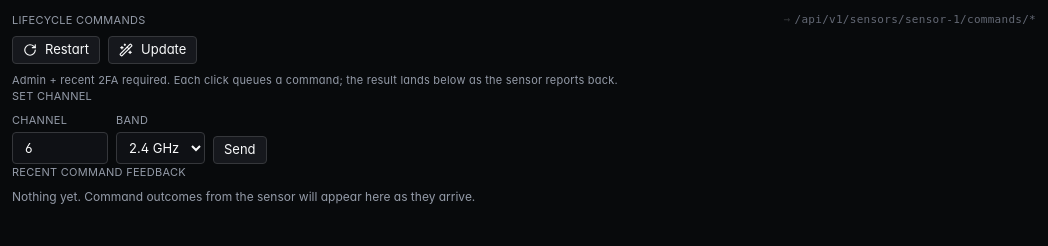
Test case: SensorCommands › queues a restart command and shows the accepted note with the command_id
Expected: the heading "Lifecycle commands" is shown, [12,12,146,28]
What coordinates should you click on to do the following:
click the button with aria-label "restart sensor"
I would click on:
 (56, 50)
Its box is [12,36,100,64].
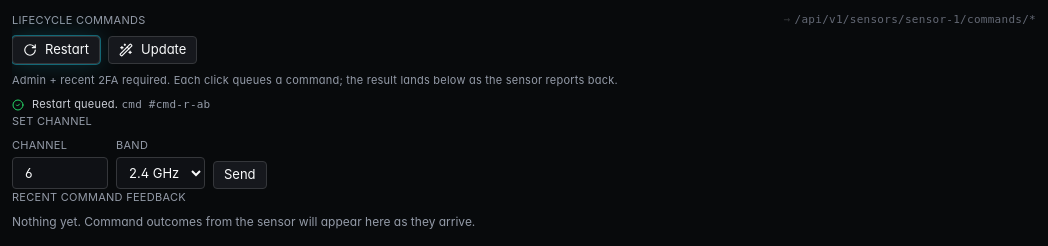
Result: the text "Restart queued. cmd #cmd-r-ab" is shown at [32,96,210,113]
Result: the text "cmd #cmd-r-ab" is shown at [122,98,210,111]
